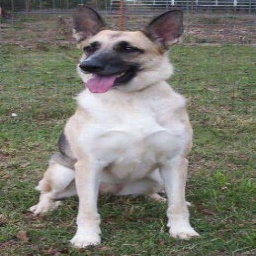dog: (21, 4, 202, 243)
